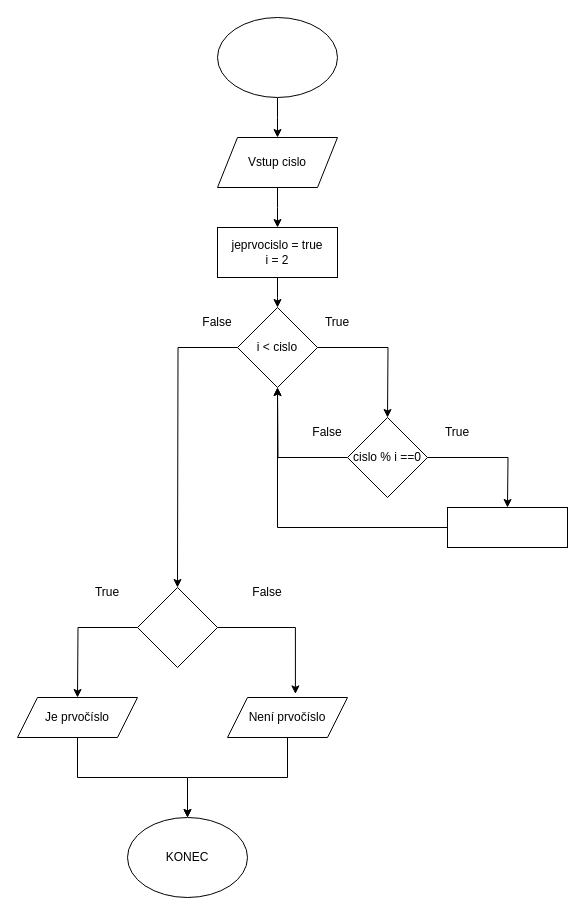
The diagram is 585 pixels wide and 915 high, and some of its shapes have lost their labels. The shapes that lost their labels are listed below. From the top down, each one's box as (x1, y1, x2, y2) in pixels, then its label:
(216, 16, 338, 98): START
(446, 506, 568, 548): jeprvocislo = false
(136, 586, 218, 668): jeprvocislo
